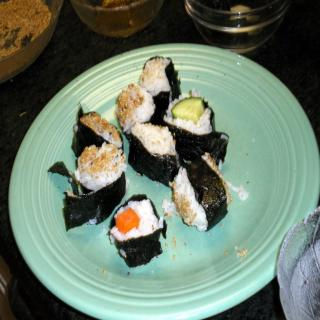Sushi: (115, 57, 228, 229), (47, 142, 125, 232), (108, 196, 166, 266), (70, 104, 125, 156)
